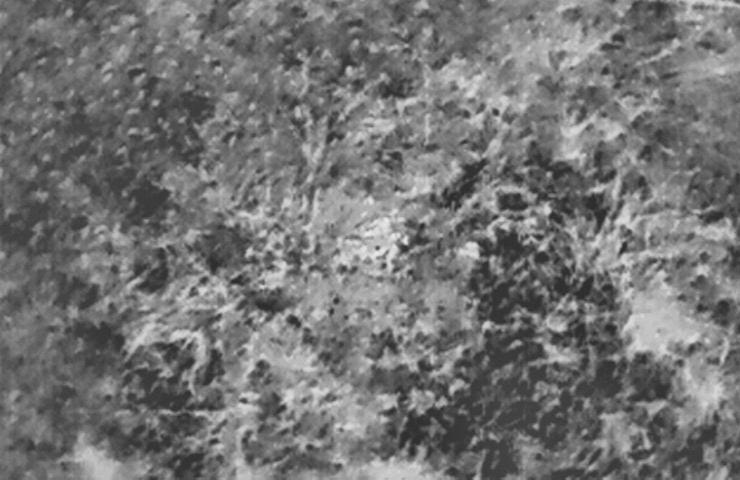landmines: (344, 216, 405, 268)
